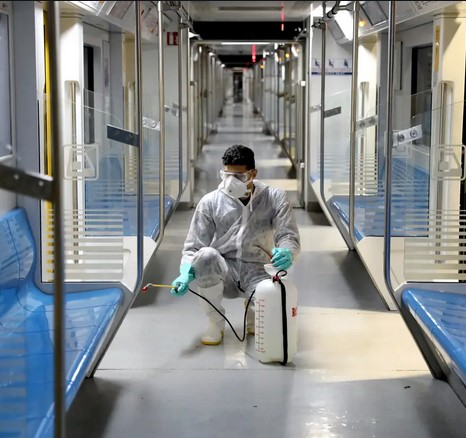face_with_mask: (216, 149, 260, 201)
